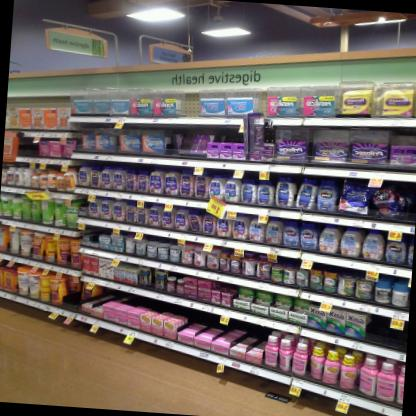empty_space: (364, 313, 390, 346), (388, 318, 409, 351), (179, 91, 200, 118), (28, 137, 40, 156), (18, 137, 28, 156)
